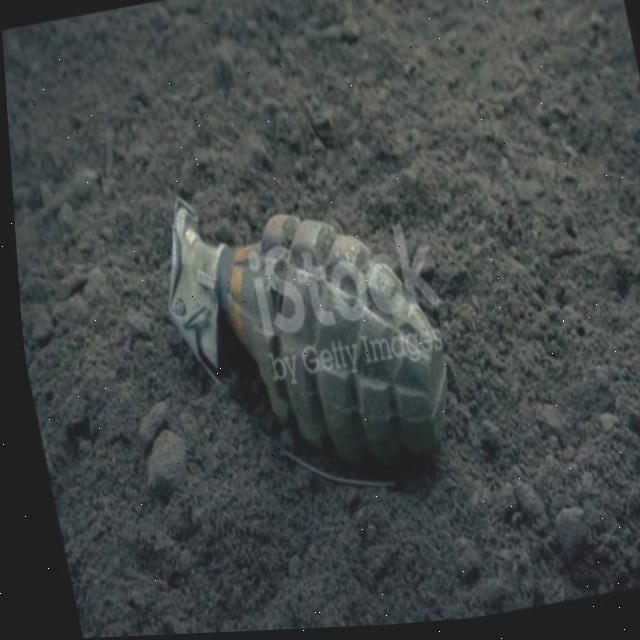grenade: (140, 152, 461, 512)
